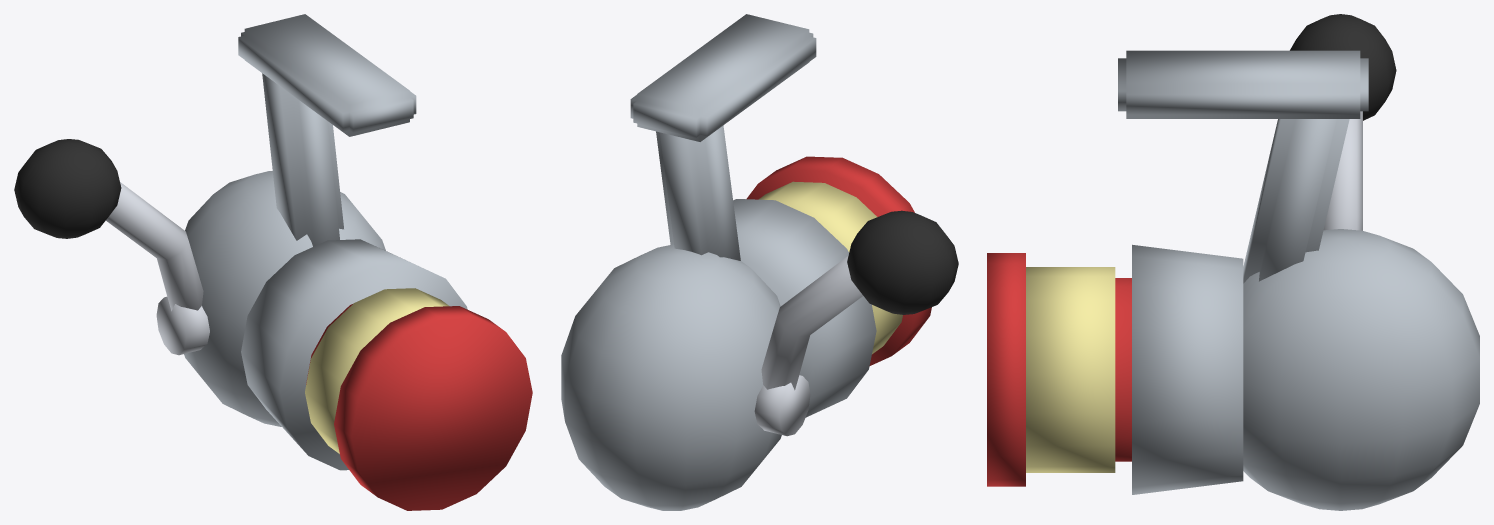
The model's file is reel_highgear.fbx.
3 renders of one model, left to right at view 1: azimuth 30°, elevation 25°; view 2: azimuth 150°, elevation 25°; view 3: azimuth 270°, elevation 25°, orthographic. The views are drawn at different scales.
Visible parts, largest first — view 1: Body, Crank; view 2: Body, Crank; view 3: Body, Crank.
Part boxes in pixels (left/top/right/bottom): Body: left=184, top=14, right=532, bottom=510; Crank: left=14, top=139, right=209, bottom=355; Body: left=561, top=14, right=931, bottom=510; Crank: left=754, top=210, right=958, bottom=436; Body: left=987, top=50, right=1479, bottom=510; Crank: left=1290, top=14, right=1396, bottom=230.
Size of the model in its own units: 0.1165 by 0.12 by 0.1234.
